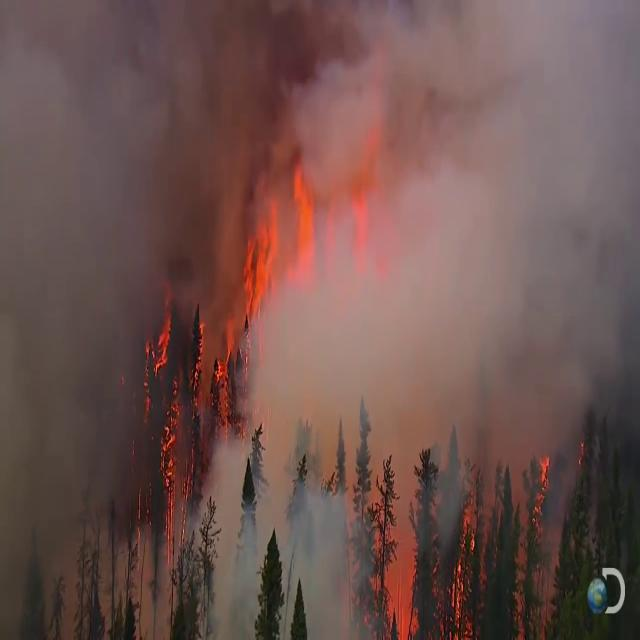Fire: (152, 241, 228, 464)
Smoke: (386, 9, 630, 436), (434, 44, 638, 402), (9, 10, 116, 640), (248, 285, 380, 640), (84, 18, 250, 219), (210, 466, 362, 640), (125, 474, 282, 628)
